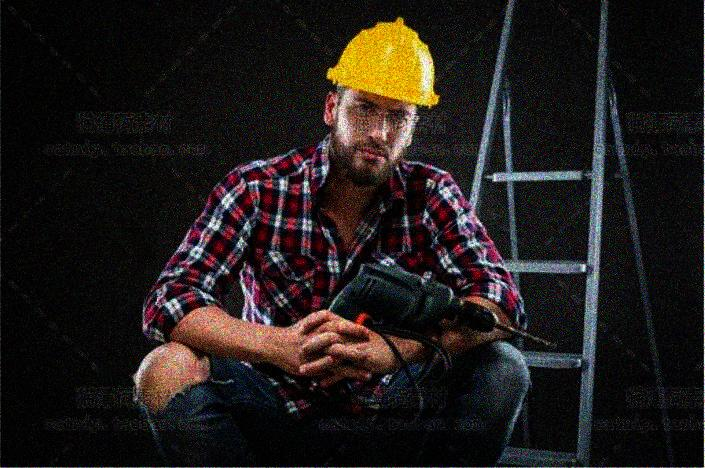helmet: (321, 17, 439, 184)
